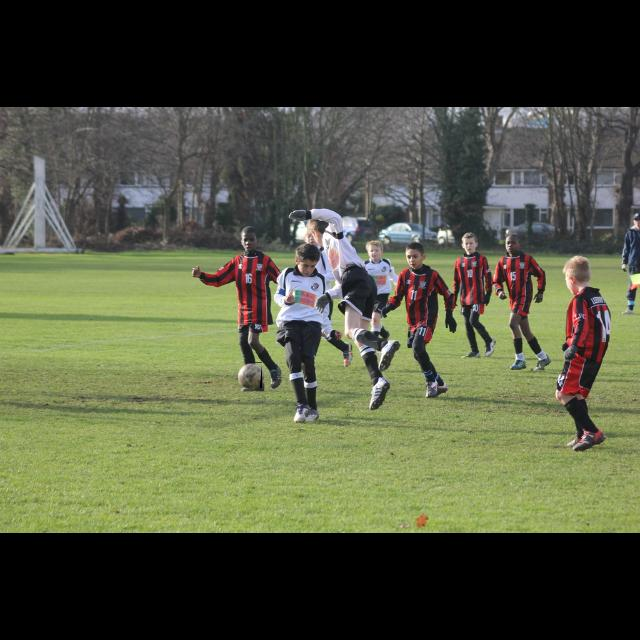Football: (238, 362, 262, 388)
